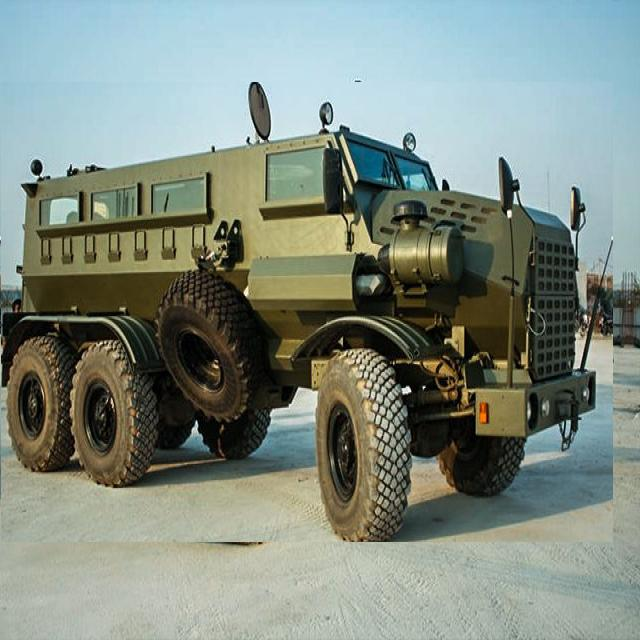truck: (1, 82, 612, 542)
